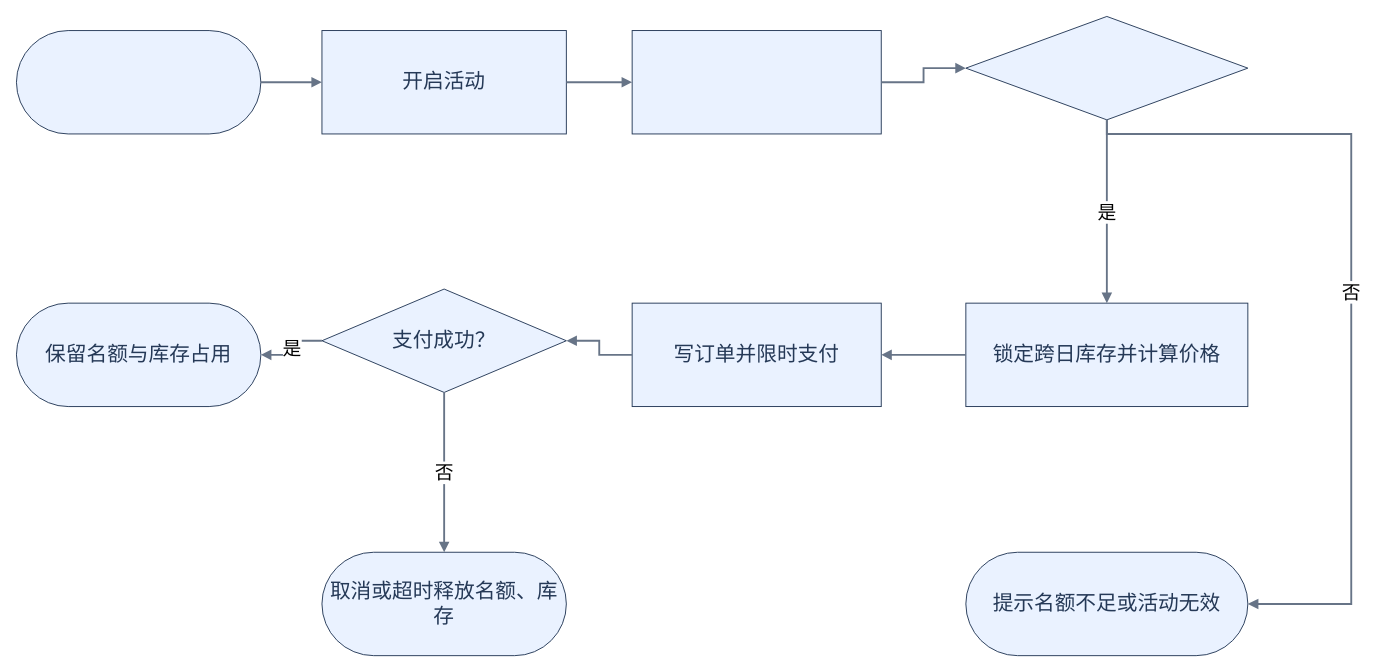
Some shapes in this 1377 by 672 pixel diagram are drawn without their labels. Here are the shapes that lost their labels. From the top down, the box of each, then its label:
(16, 30, 261, 134): 管理员设置房型、日期、配额、折扣
(631, 30, 881, 134): 顾客提交秒杀订单
(965, 16, 1248, 120): 名额与活动规则有效？
